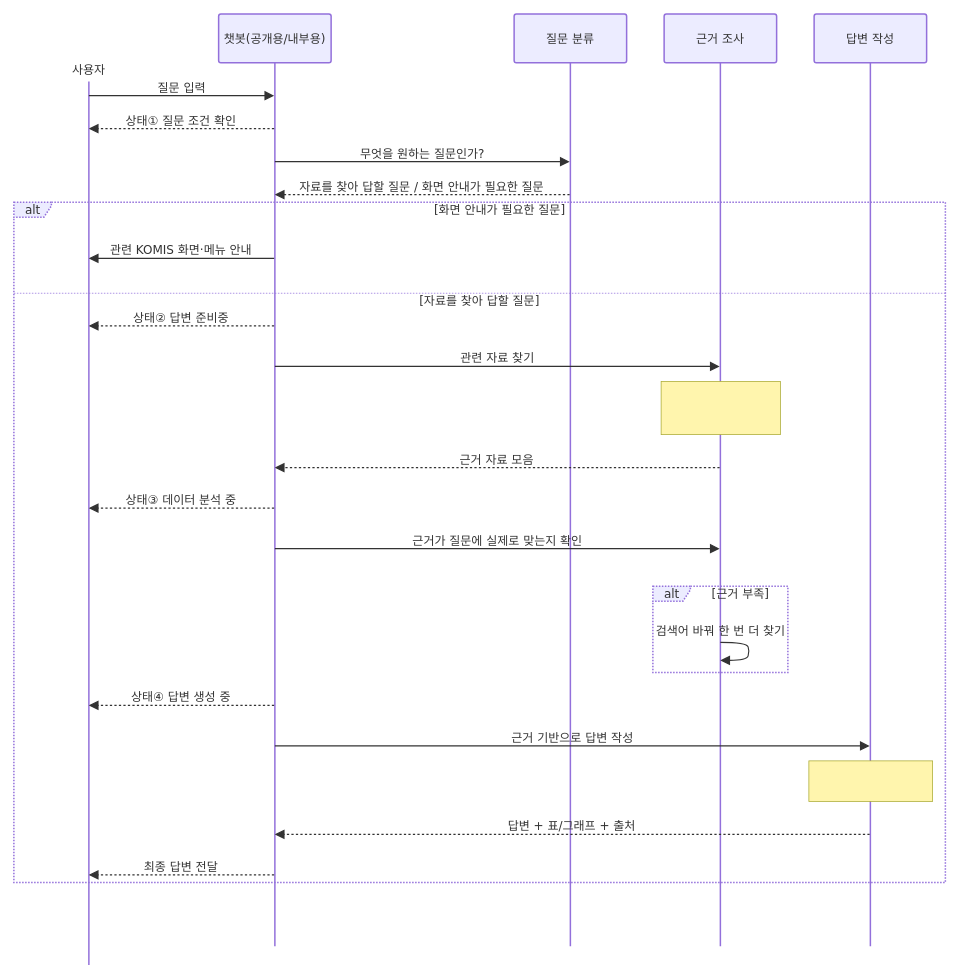
Some shapes in this 959 by 978 pixel diagram are drawn without their labels. Here are the shapes that lost their labels. From the top down, the box of each, then its label:
(660, 381, 780, 435): komir 자체 진단·예측 결과 + KOMIS 공개 통계 + 보고서·뉴스 문서
(808, 760, 933, 801): 근거 없는 문장은 자동 삭제 + 출처·주의문구 자동 첨부
